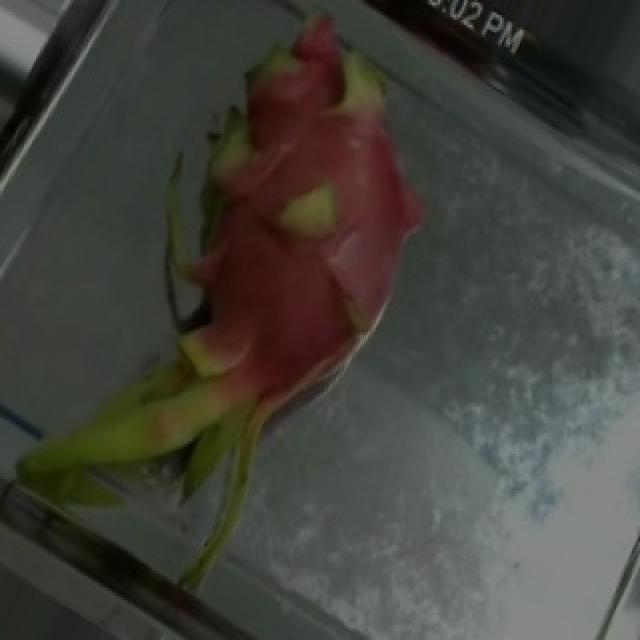fruit: (66, 0, 490, 427)
